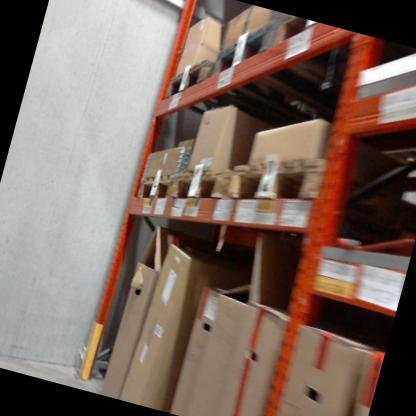pallet: (217, 133, 407, 259), (199, 15, 378, 131), (159, 53, 351, 160), (263, 11, 414, 89), (168, 142, 232, 218), (131, 164, 178, 214)
